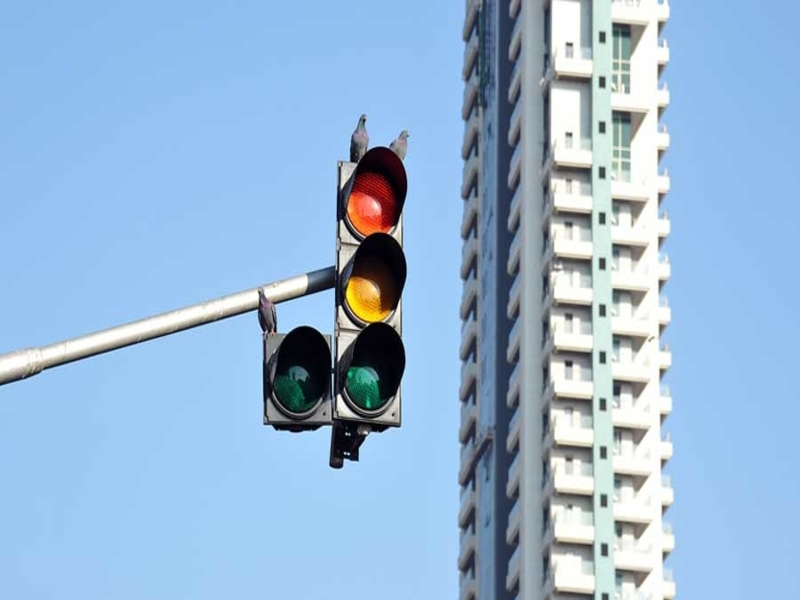traffic_light: (261, 146, 409, 469), (261, 146, 409, 469)
